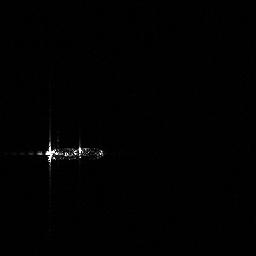ship: (34, 138, 107, 169)
